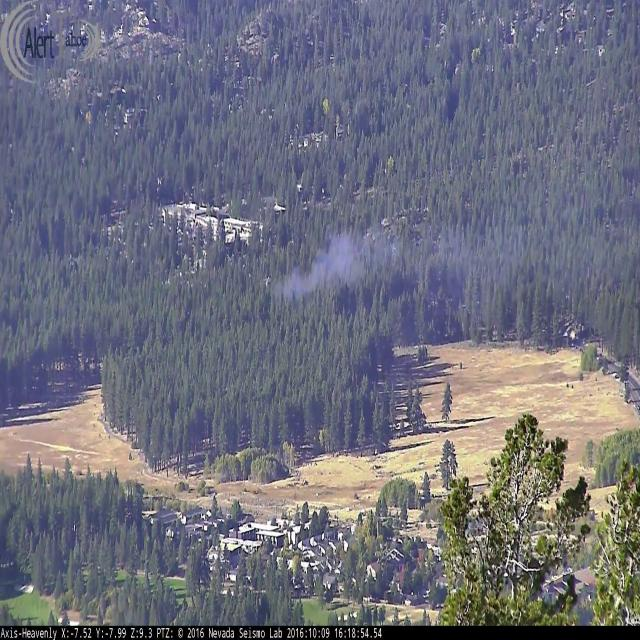smoke: (266, 203, 582, 315)
